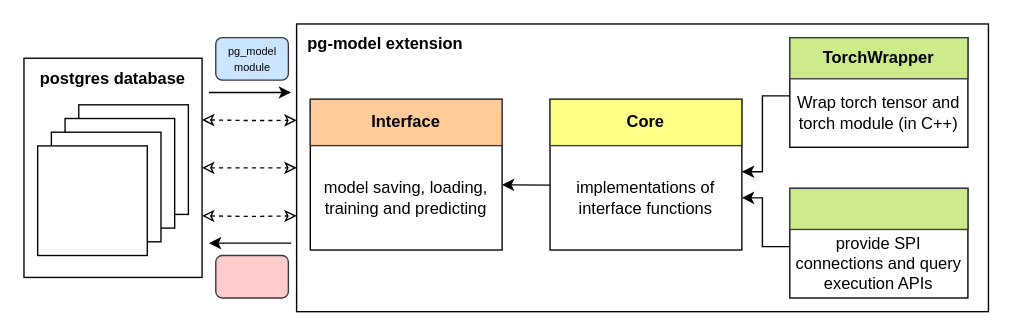
This 1019x336 diagram has some shape labels left out. Each missing label, with the centre of its shape:
Spi: pixel 878 208
SPI_execute: pixel 251 276
